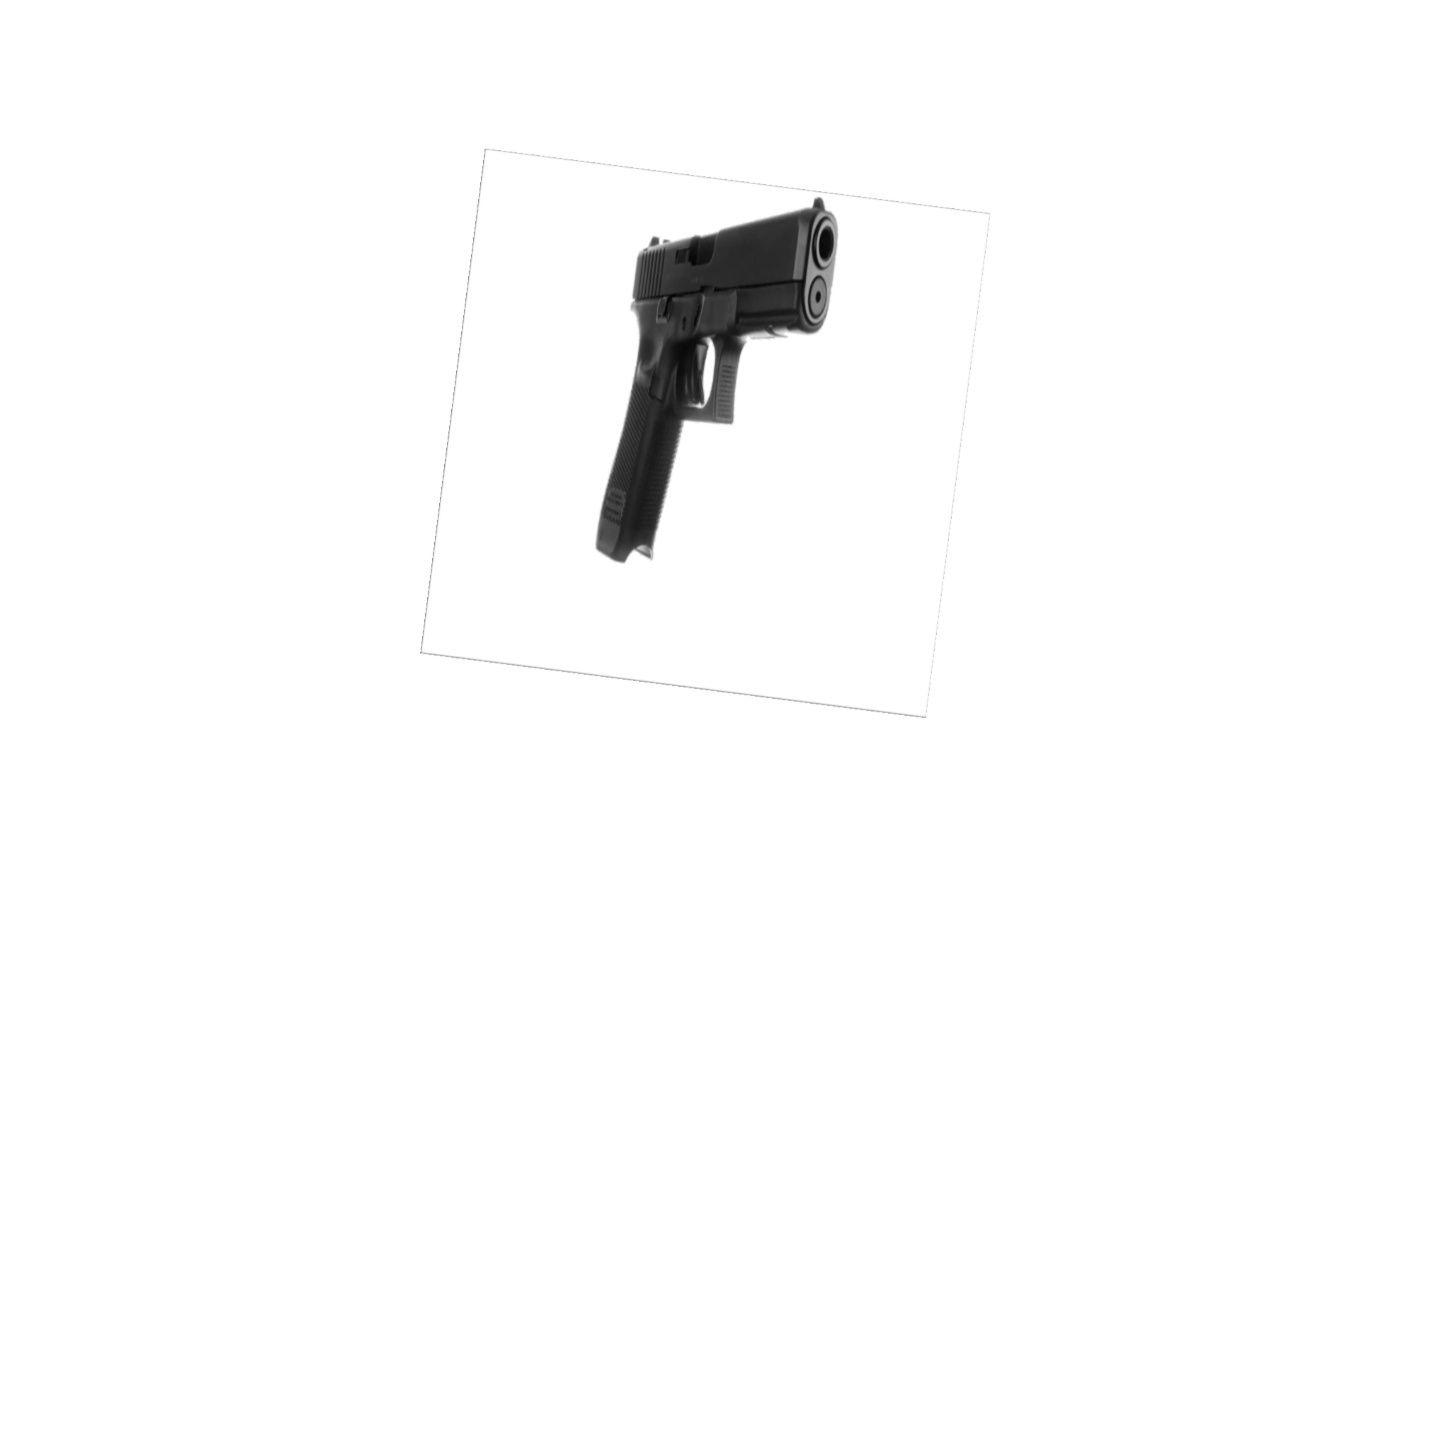gun: (593, 198, 838, 564)
